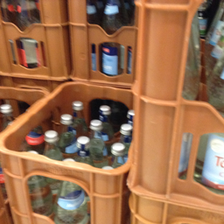water: (55, 160, 90, 224), (101, 1, 128, 77), (83, 116, 108, 165), (52, 113, 79, 152)
